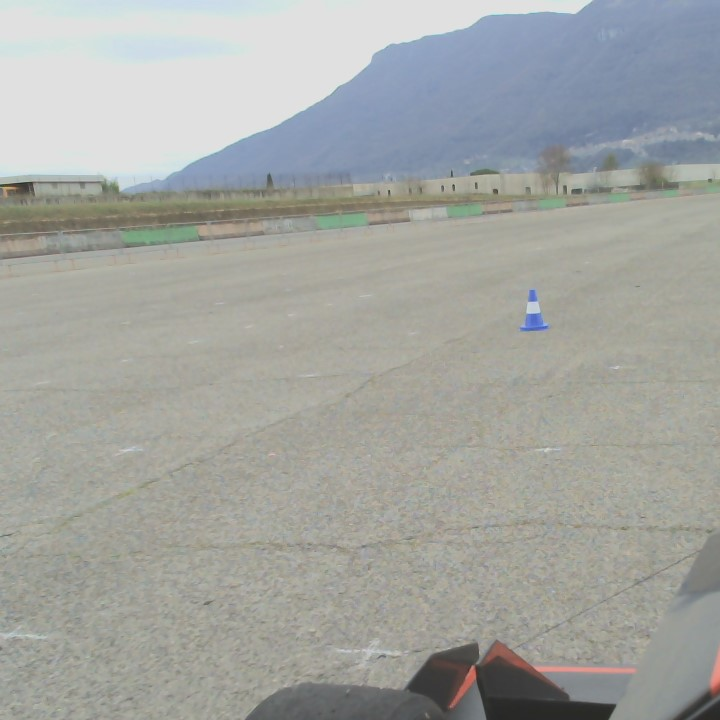cone: (522, 288, 549, 330)
